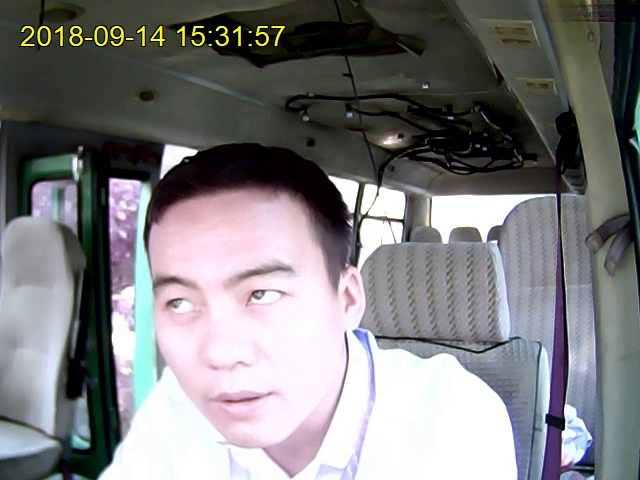closed_mouth: (205, 389, 278, 417)
open_eye: (246, 289, 288, 309), (159, 298, 204, 315)
